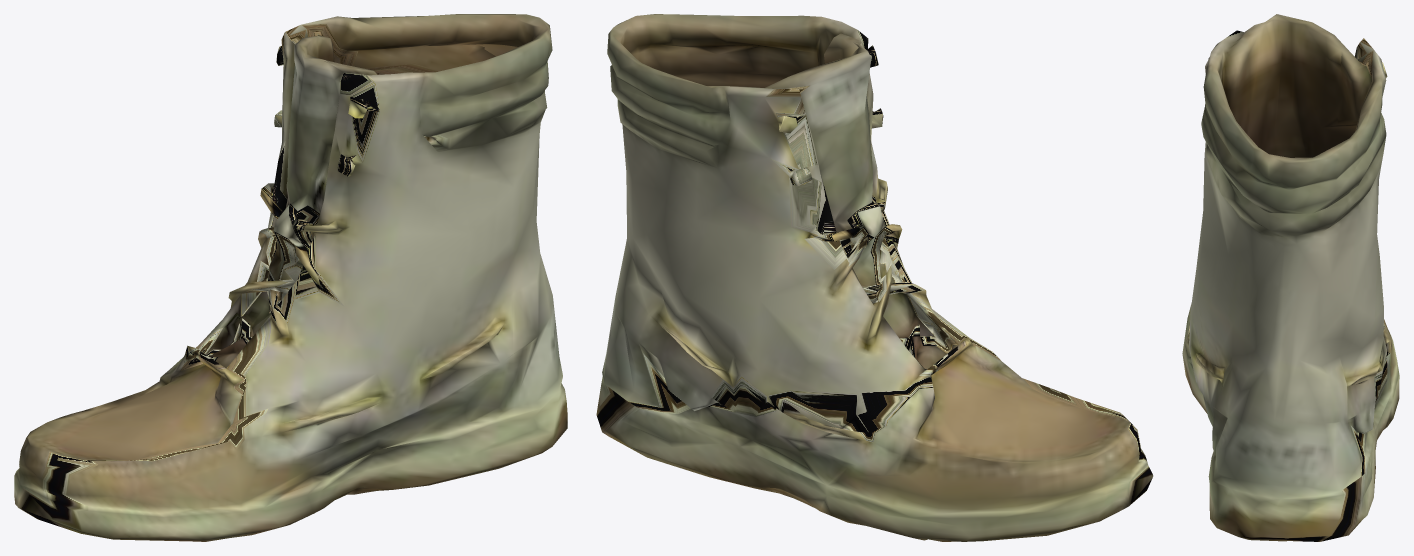
Rendered from gso_womens_hikerfish_boot_in_linen_leather_sparkle_suede_qktiyakonru.glb.
3 renders of one model, left to right at view 1: azimuth 30°, elevation 25°; view 2: azimuth 150°, elevation 25°; view 3: azimuth 270°, elevation 25°, orthographic. The views are drawn at different scales.
Visible parts, largest first — view 1: z-up-to-y-up; view 2: z-up-to-y-up; view 3: z-up-to-y-up.
Part boxes in pixels (left/top/right/bottom): z-up-to-y-up: left=14, top=14, right=567, bottom=541; z-up-to-y-up: left=596, top=14, right=1153, bottom=541; z-up-to-y-up: left=1182, top=14, right=1399, bottom=541.
Bounding box in the file's own units: 0.2476 × 0.1923 × 0.0891.
Materials: 1 (1 with a texture image).
